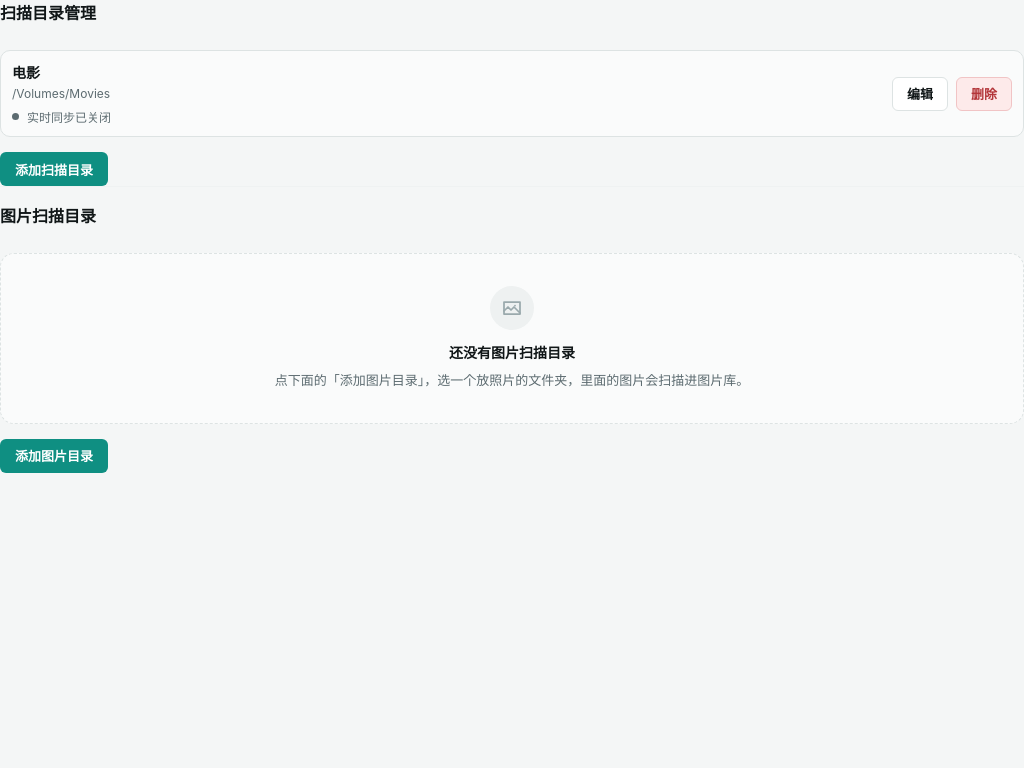
Test: 添加目录的去重与嵌套提示、错误显示（D-PC09） › LIB-14 增删目录失败时把原因显示在分区里，而不是吞掉
The width and height of the screenshot is (1024, 768).
Step 1. Click the button "删除" → click(984, 94), box [956,76,1012,110]
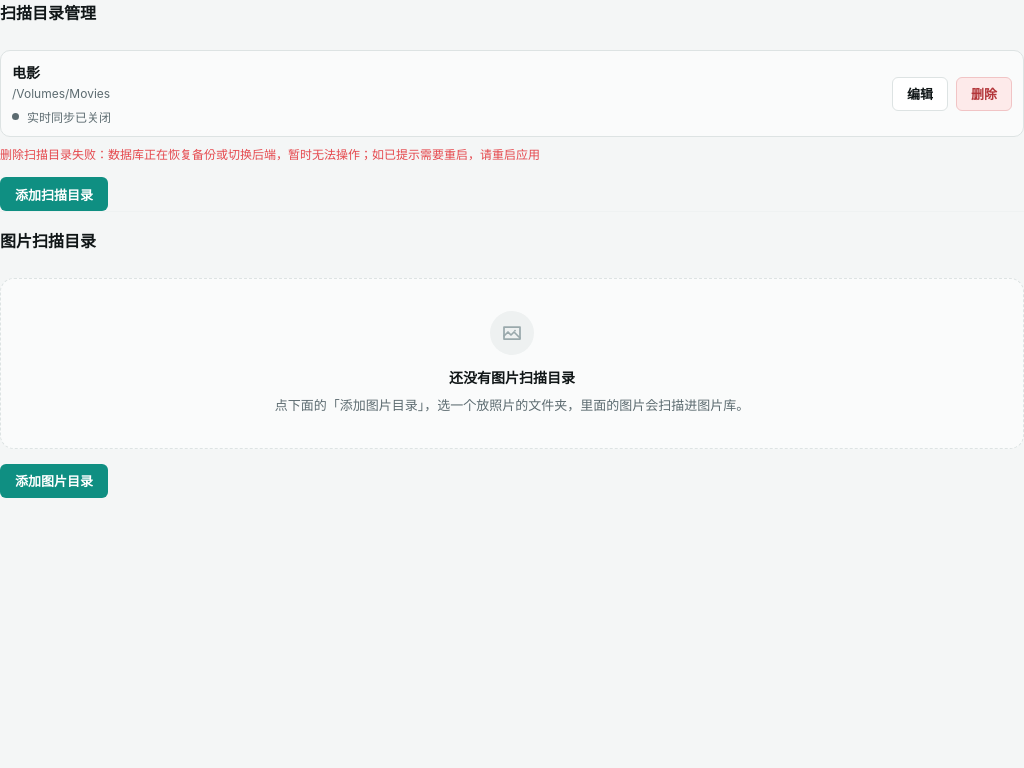
Now the message with test id "scan-dirs-error" shows "删除扫描目录失败", box [0,147,540,162]
Now the message with test id "scan-dirs-error" shows "数据库正在恢复备份或切换后端", box [0,147,540,162]
Step 2. Click the button with test id "add-scan-directory" → click(54, 194), box [0,177,108,211]
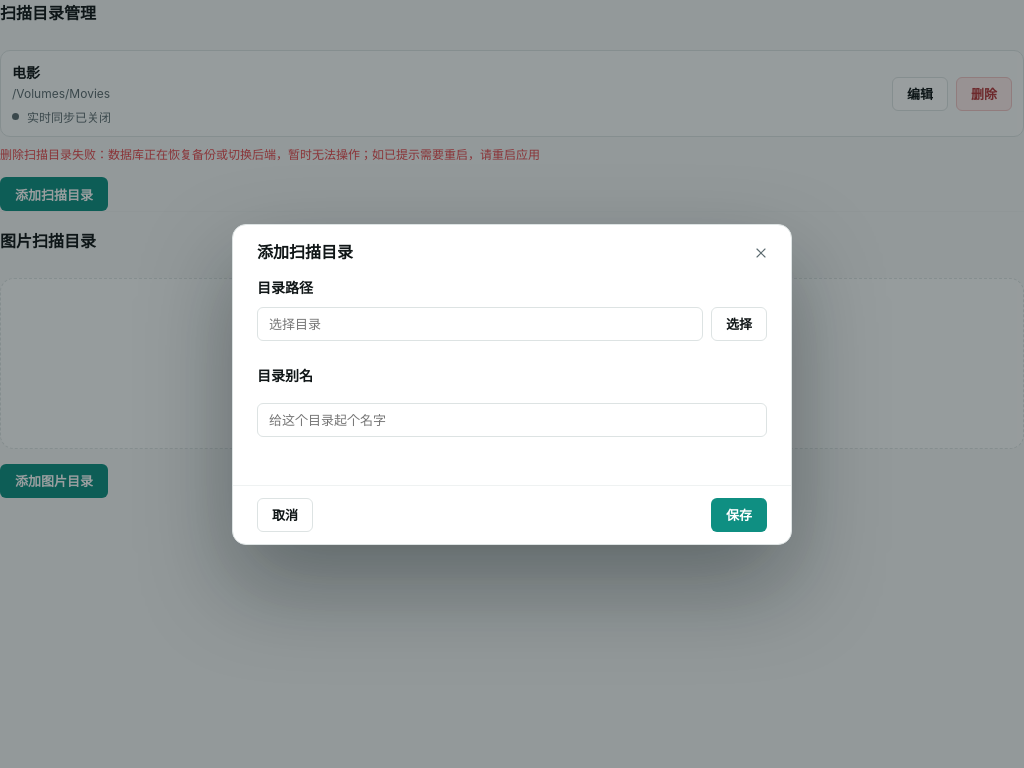
Step 3. Click the button with test id "select-scan-directory" → click(739, 324), box [711,306,767,340]
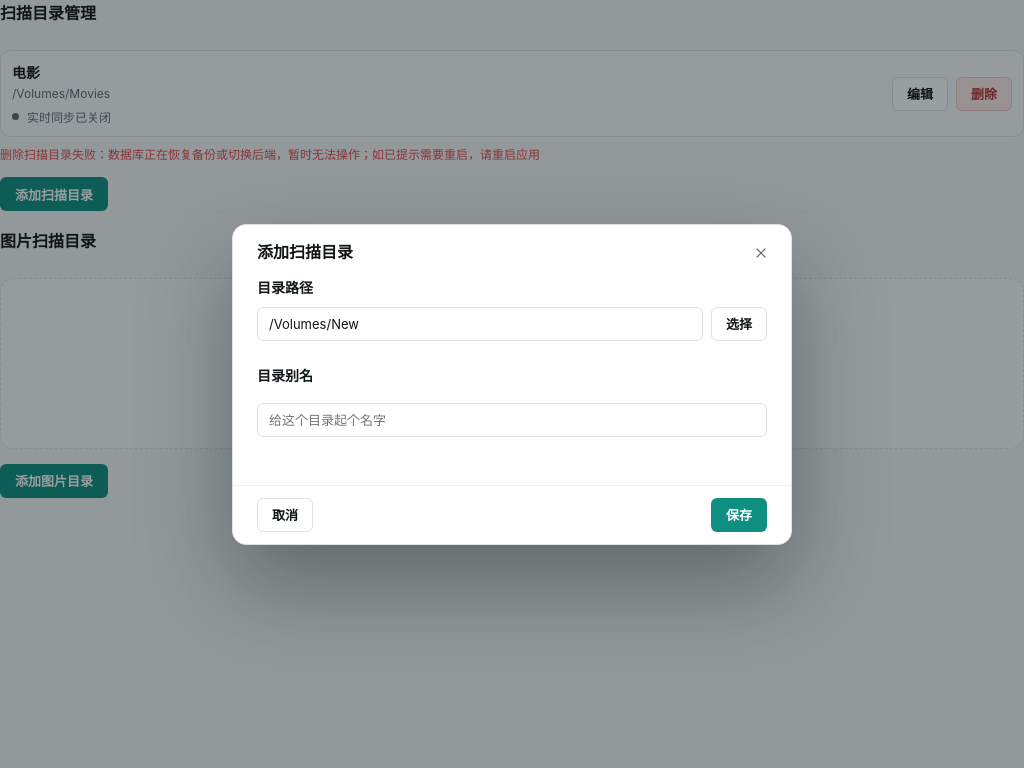
Step 4. Click the button with test id "save-scan-directory" → click(739, 514), box [711,498,767,532]
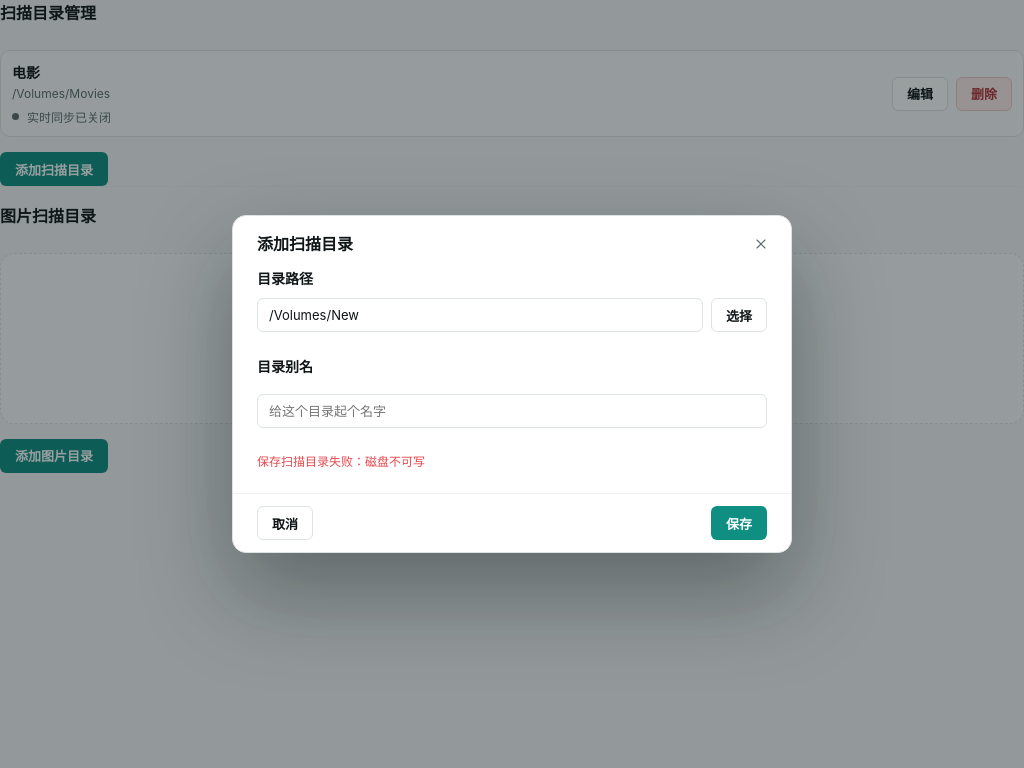
Now the message with test id "scan-directory-dialog-error" reads "保存扫描目录失败：磁盘不可写", box [257,454,425,469]
